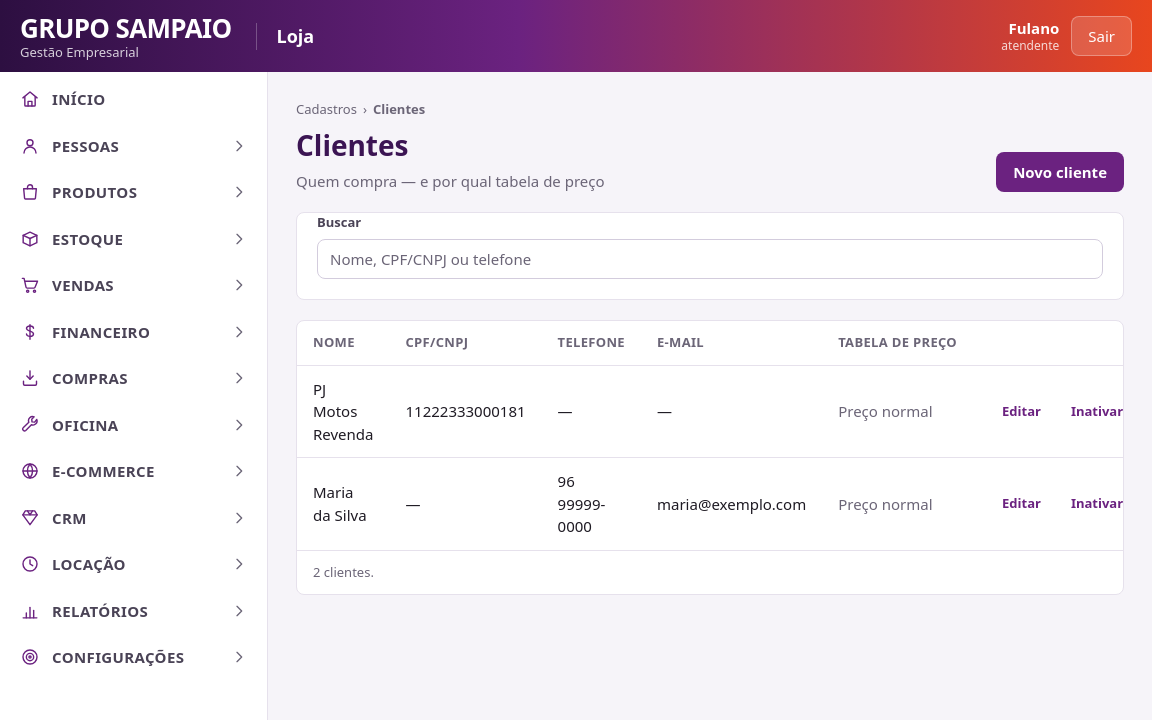
editar a ficha › salvar o telefone vai pela rota da ficha e a lista reflete
Click the button with aria-label "Editar cadastro de Maria da Silva": coordinates (1021, 504) [989,487,1054,520]
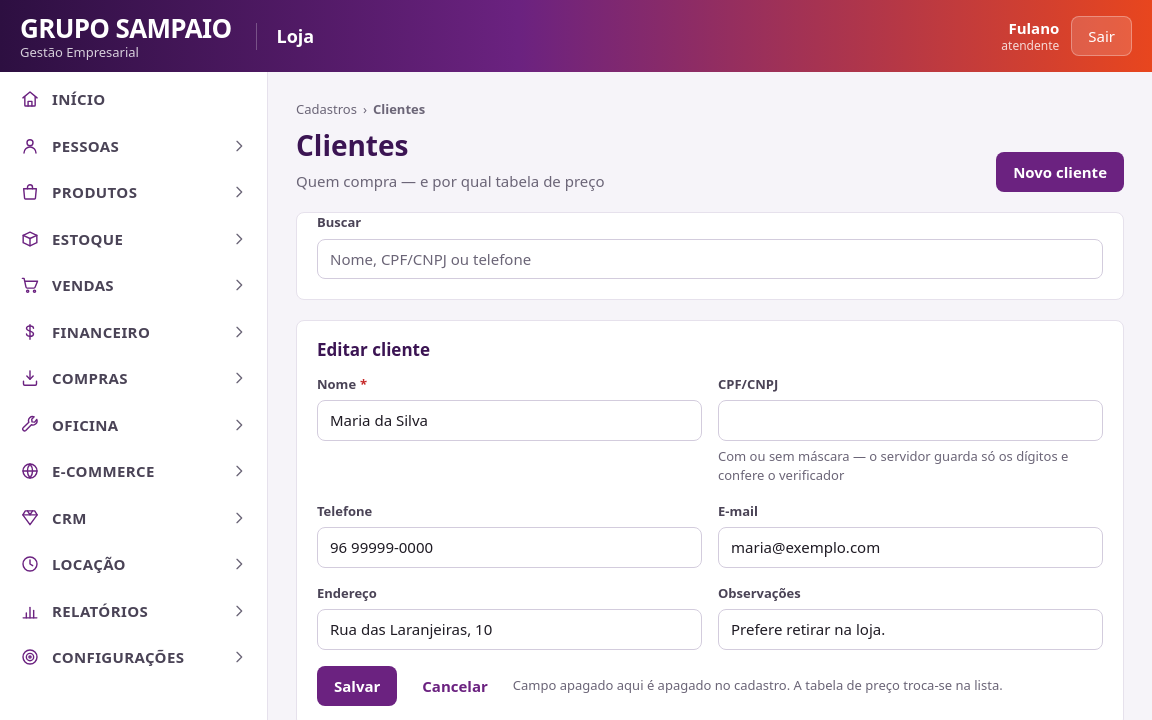
Result: the field labelled "Telefone" holds "96 99999-0000"
Replace the text in the field labelled "Telefone" with "96 98888-7777": coordinates (510, 547) [317,527,702,568]
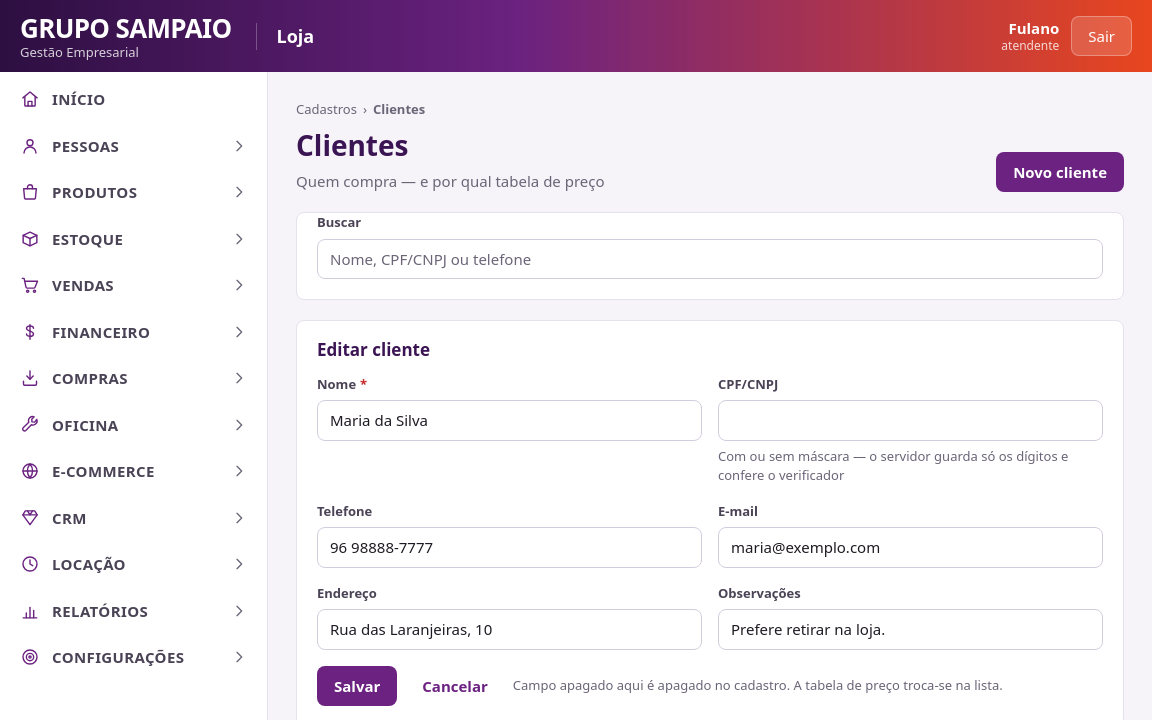
Click the button "Salvar": coordinates (357, 686) [317,666,397,706]
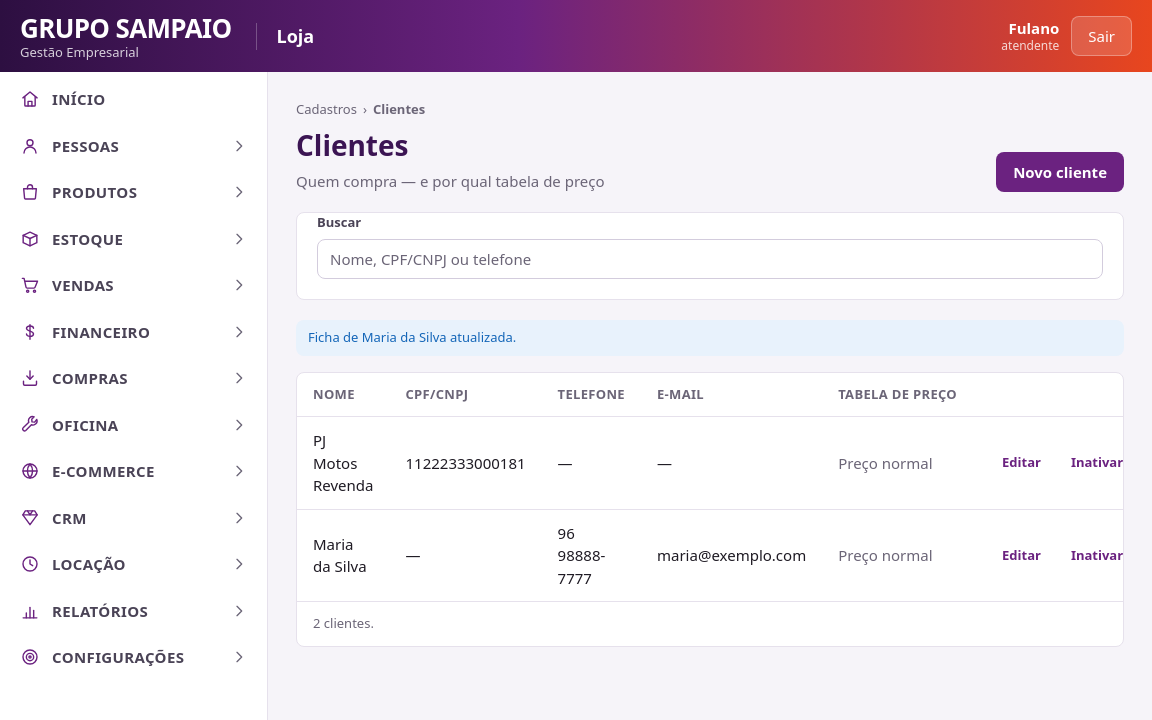
Expected: the cell "Maria da Silva" is shown, [297,509,390,602]
Result: the text "96 98888-7777" is shown at [542,509,641,602]
Result: the text "Ficha de Maria da Silva atualizada." is shown at [296,320,1124,356]
